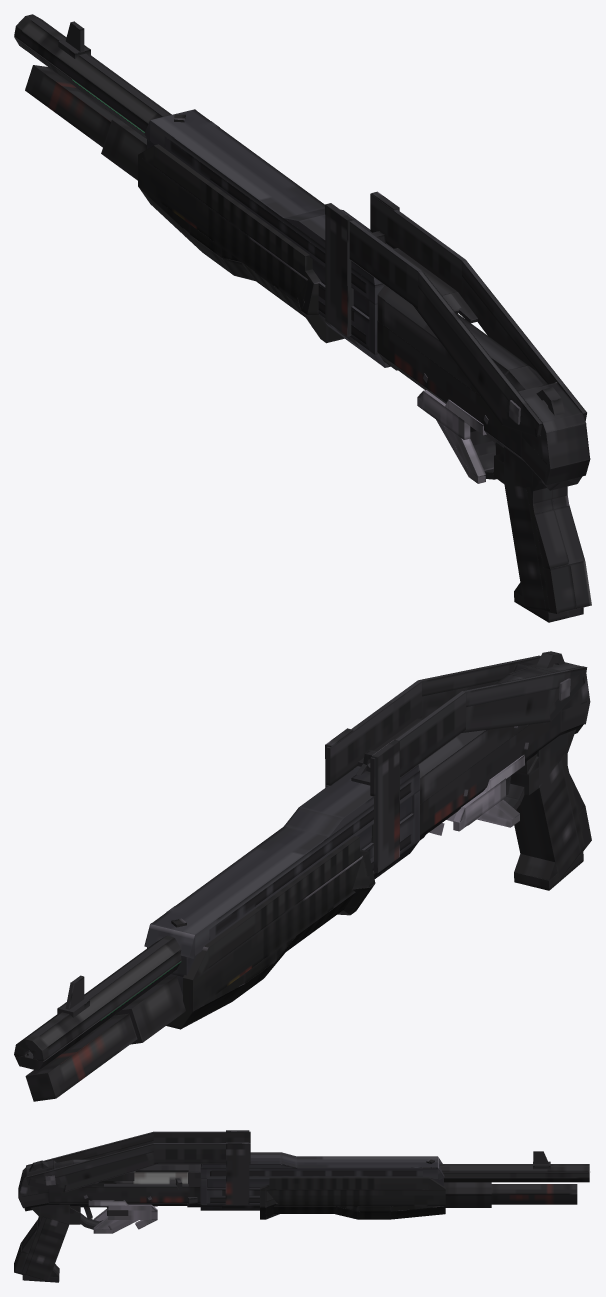
The model's file is spas12.obj.
3 renders of one model, top to bottom at view 1: azimuth 30°, elevation 25°; view 2: azimuth 150°, elevation 25°; view 3: azimuth 270°, elevation 25°, orthographic. The views are drawn at different scales.
Visible parts, largest first — view 1: gun_136, stock_9, pump_35, stock_10; view 2: gun_136, stock_9, pump_35, stock_10; view 3: gun_136, pump_35, stock_9, stock_10, action_2.
Part boxes in pixels (<box>): gun_136: <box>14,14,591,622</box>; stock_9: <box>347,193,586,436</box>; pump_35: <box>138,144,344,343</box>; stock_10: <box>325,191,399,336</box>; gun_136: <box>14,651,591,1101</box>; stock_9: <box>326,655,587,796</box>; pump_35: <box>166,835,375,1029</box>; stock_10: <box>325,728,399,873</box>; gun_136: <box>14,1151,589,1282</box>; pump_35: <box>260,1177,445,1219</box>; stock_9: <box>26,1131,250,1192</box>; stock_10: <box>225,1130,249,1204</box>; action_2: <box>133,1172,187,1189</box>.
Size of the model in its own units: 0.4441 by 1.6 by 5.94.
